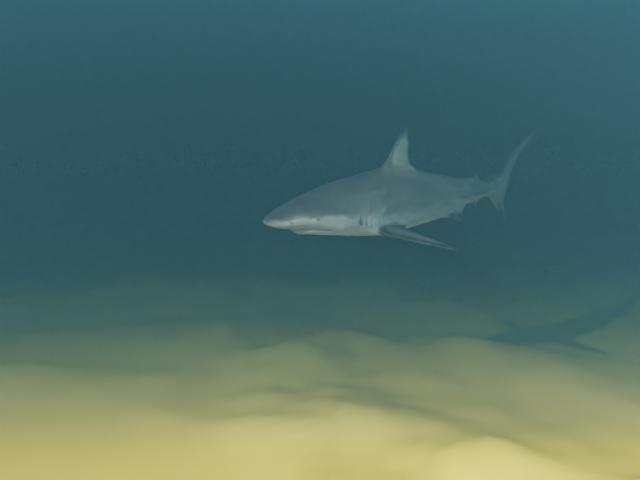Carribean Shark.001: (263, 128, 540, 250)
